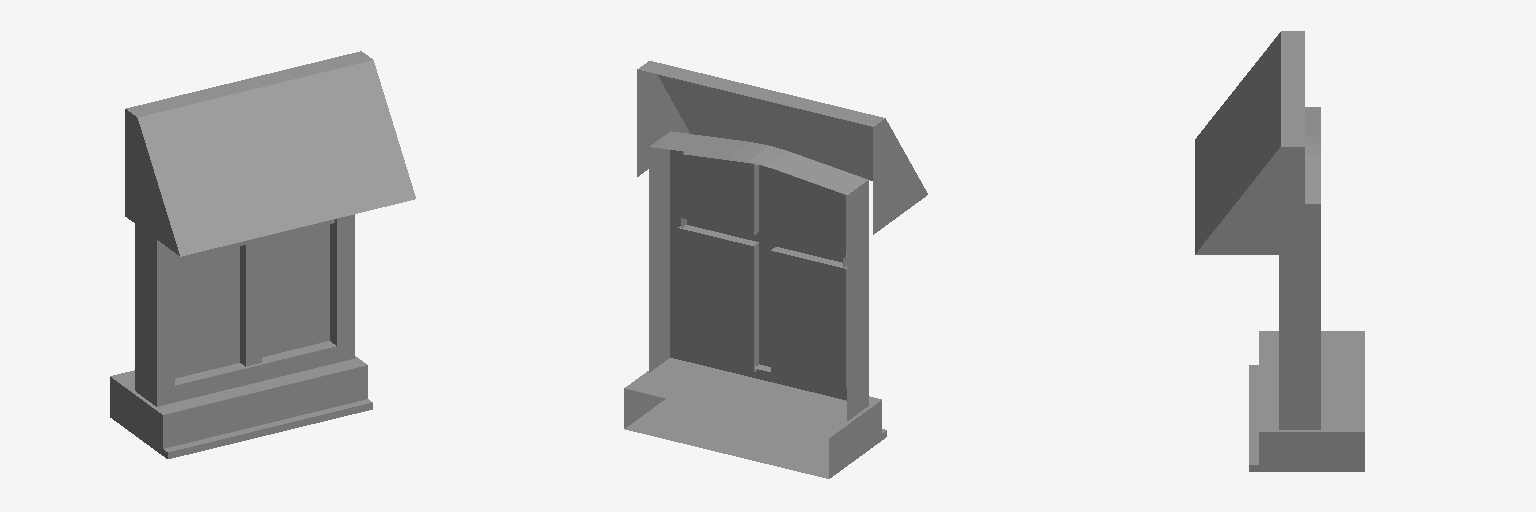
The model's file is Window_Roof.obj.
3 views of the same model, side by side, from view 1: azimuth 30°, elevation 25°; view 2: azimuth 150°, elevation 25°; view 3: azimuth 270°, elevation 25° (orthographic).
Visible parts, largest first — view 1: Window_Roof_Cube.057; view 2: Window_Roof_Cube.057; view 3: Window_Roof_Cube.057.
Part boxes in pixels (left/top/right/bottom): Window_Roof_Cube.057: left=110, top=51, right=415, bottom=458; Window_Roof_Cube.057: left=624, top=61, right=927, bottom=478; Window_Roof_Cube.057: left=1195, top=31, right=1364, bottom=471.
Size of the model in its own units: 0.3602 by 0.4869 by 0.2243.